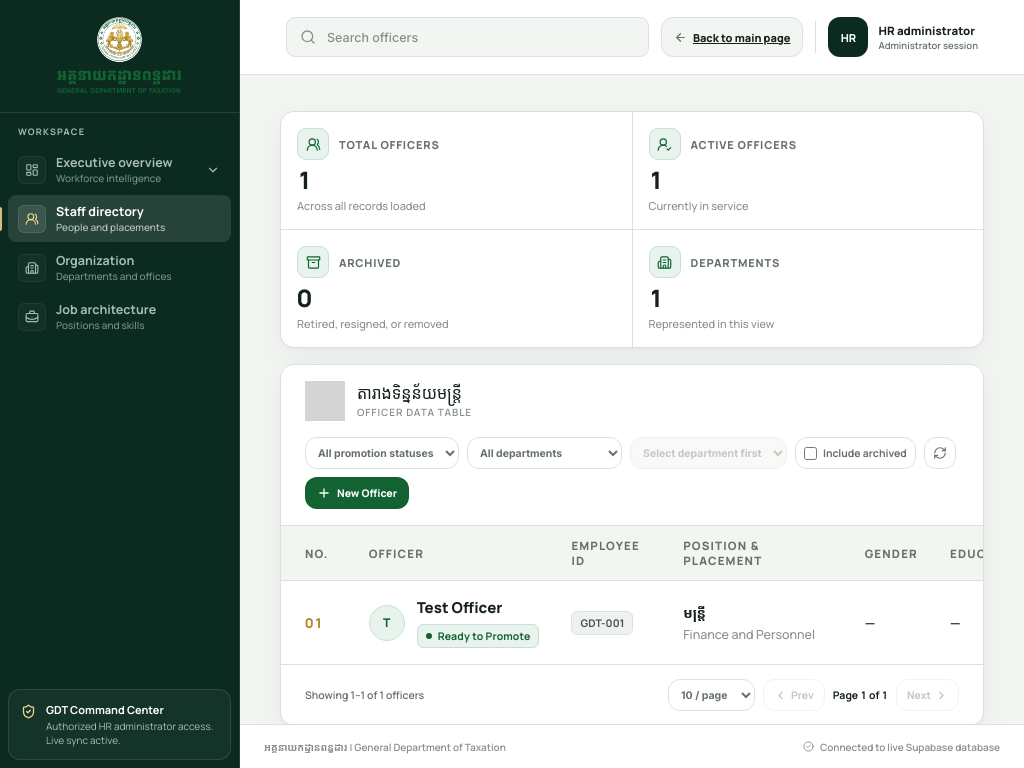
Test case: Staff Directory › selects a department first and keeps office optional
Step 1. Click the button "New Officer" → (357, 493), box left=305, top=477, right=409, bottom=509
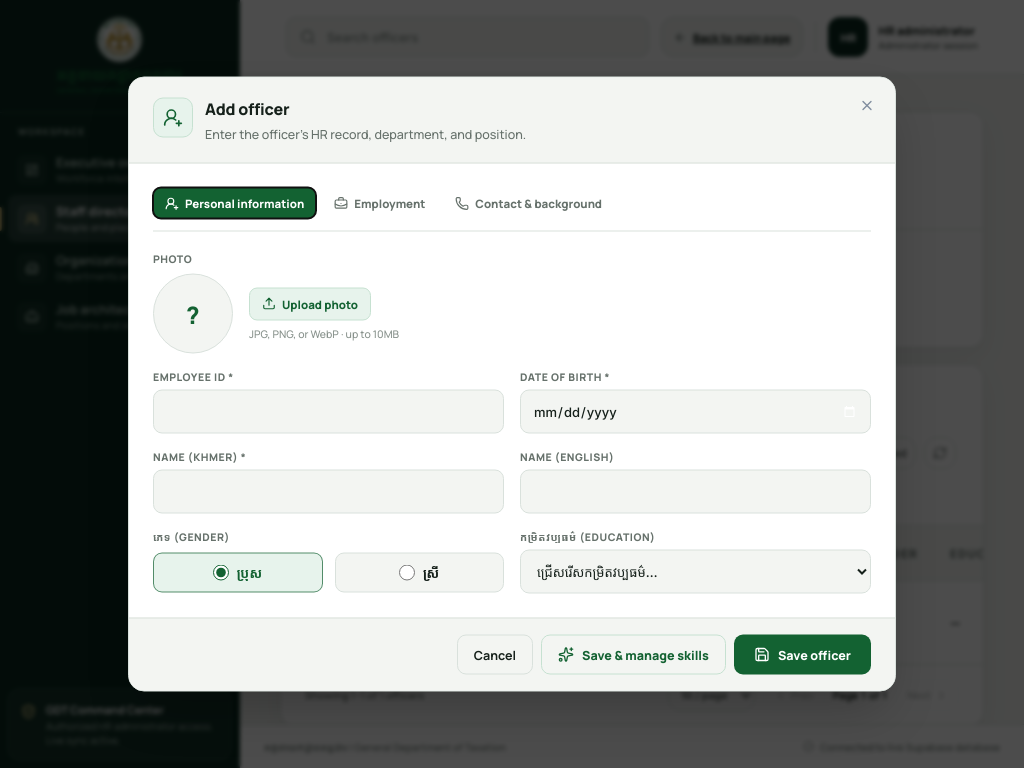
Step 2. Click the button "Employment" → (380, 203), box left=322, top=188, right=437, bottom=218
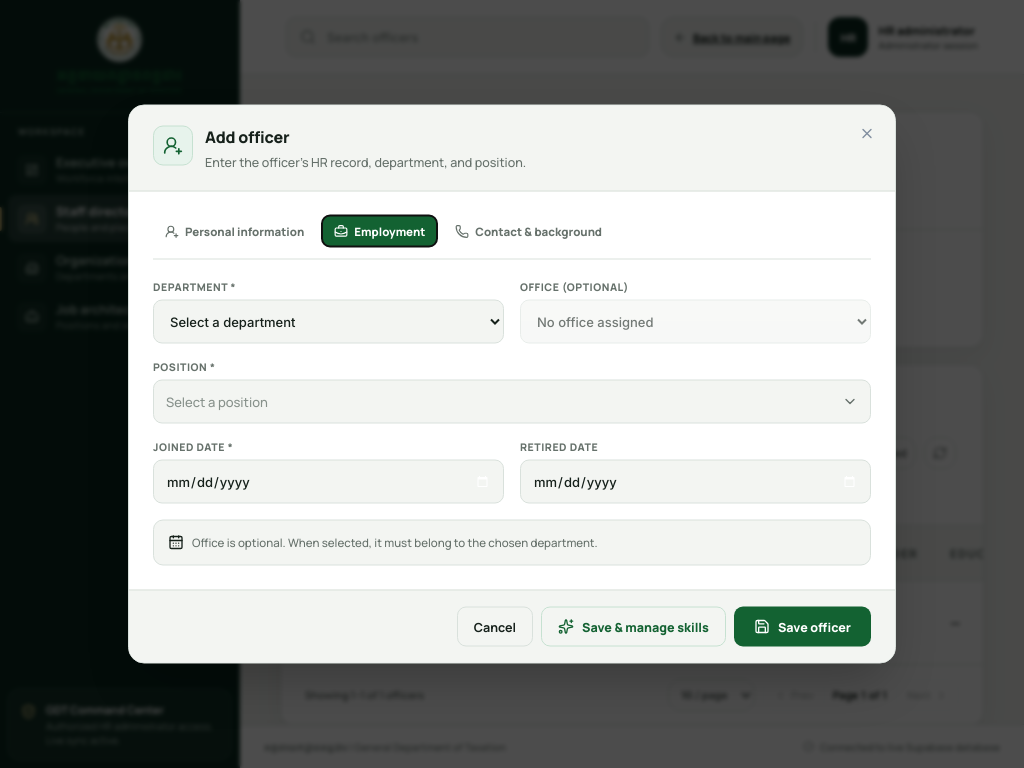
Now the dropdown labelled "Office (optional)" is disabled, box left=520, top=300, right=871, bottom=344
Step 3. Select "Finance and Personnel" in the dropdown labelled "Department *" → (328, 322), box left=153, top=300, right=504, bottom=344
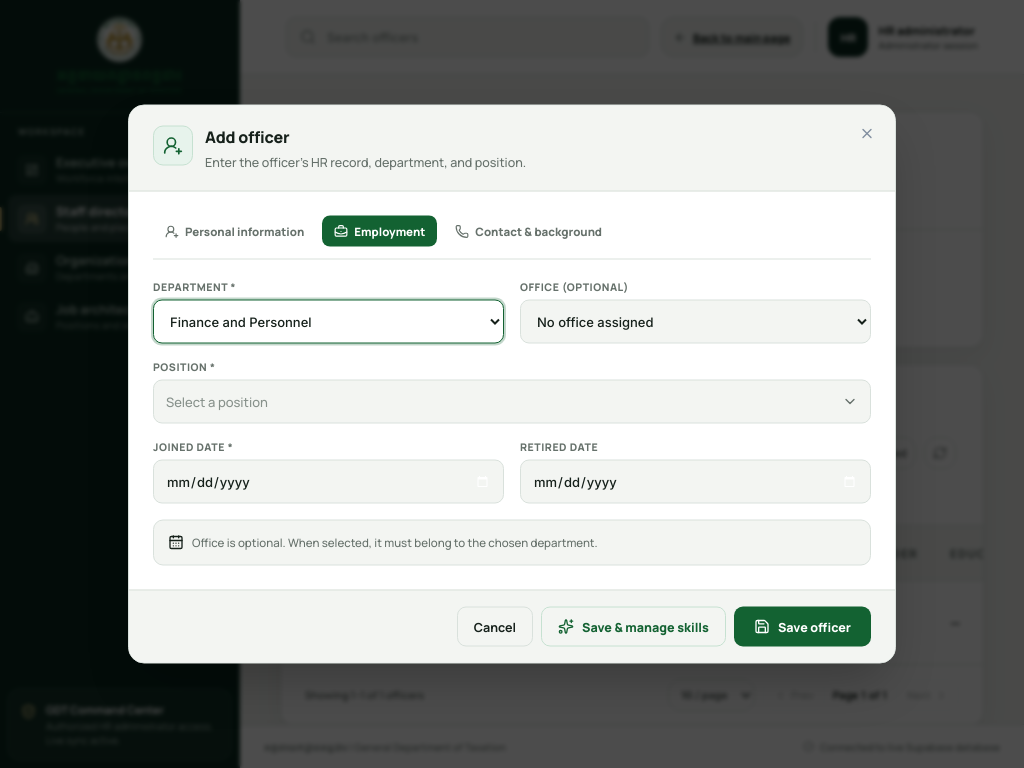
Now the button "Save & manage skills" is shown, box left=541, top=606, right=726, bottom=646
Now the dropdown labelled "Office (optional)" is enabled, box left=520, top=300, right=871, bottom=344
